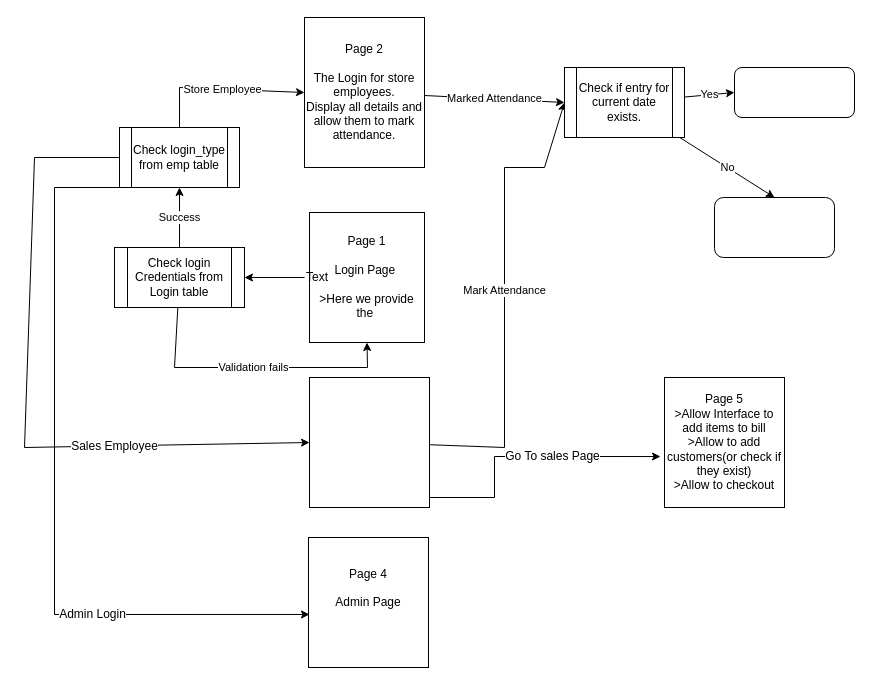
This 872x685 diagram has some shape labels left out. Here are the shapes that lost their labels. From the top down, the centre of each, then its label:
(794,92): Enter End Time
(774,227): Make a new entry and enter start time
(369,442): Page 3 >Show Employee Details >Mark Attendance >Go to Sales Page
